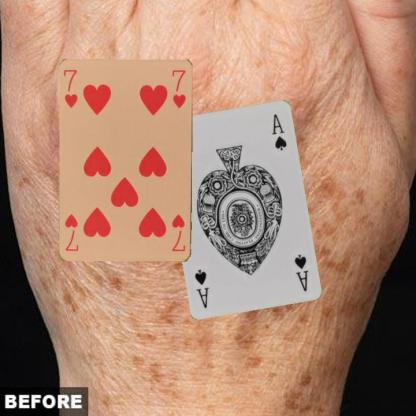7h: (61, 67, 79, 110), (169, 212, 187, 253)
As: (291, 252, 309, 292)
